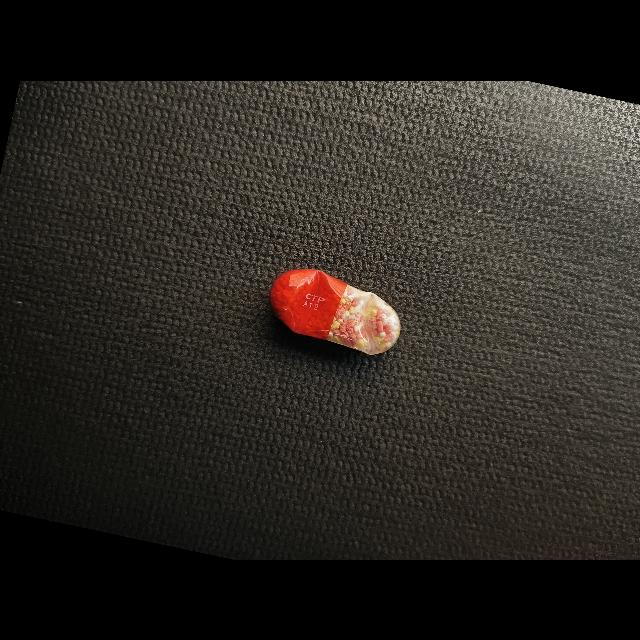Defective Capsule: (270, 269, 401, 354)
